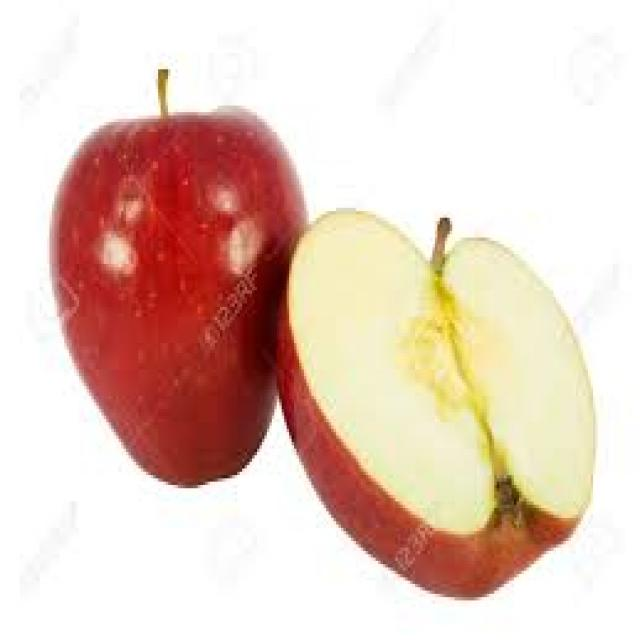Apple: (280, 226, 595, 594), (51, 79, 293, 494)
